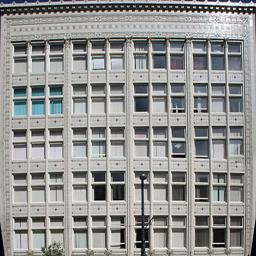building: (0, 0, 256, 256)
